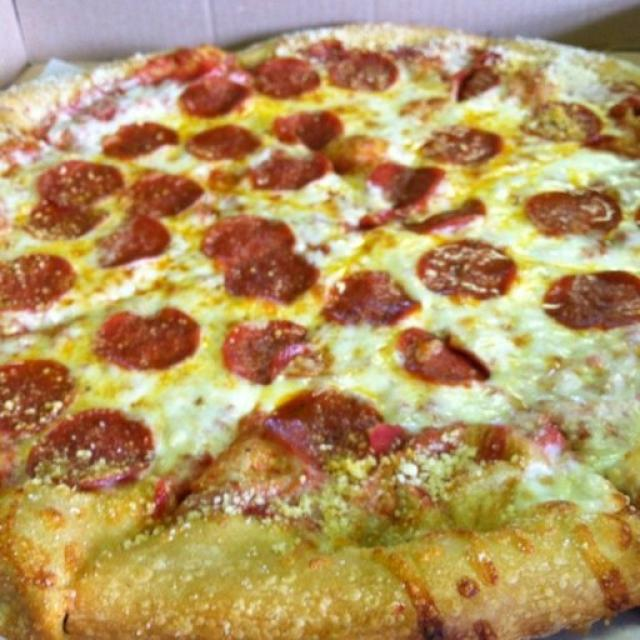Pepperoni: (201, 219, 317, 297), (355, 168, 480, 235), (38, 410, 153, 482), (273, 394, 382, 468), (102, 306, 199, 366), (0, 358, 71, 433), (30, 162, 109, 229), (547, 269, 640, 325), (0, 255, 76, 319), (401, 331, 485, 384), (422, 248, 506, 298), (529, 190, 620, 236), (229, 328, 314, 376), (329, 278, 419, 319), (134, 166, 204, 218), (98, 219, 166, 271), (254, 149, 326, 195), (331, 44, 398, 91), (526, 97, 600, 138), (182, 76, 248, 117), (590, 104, 640, 155), (426, 129, 494, 164), (102, 124, 180, 152), (256, 58, 316, 94), (267, 110, 339, 140), (191, 127, 260, 156), (458, 70, 492, 100)
Pizza: (0, 24, 640, 640)
